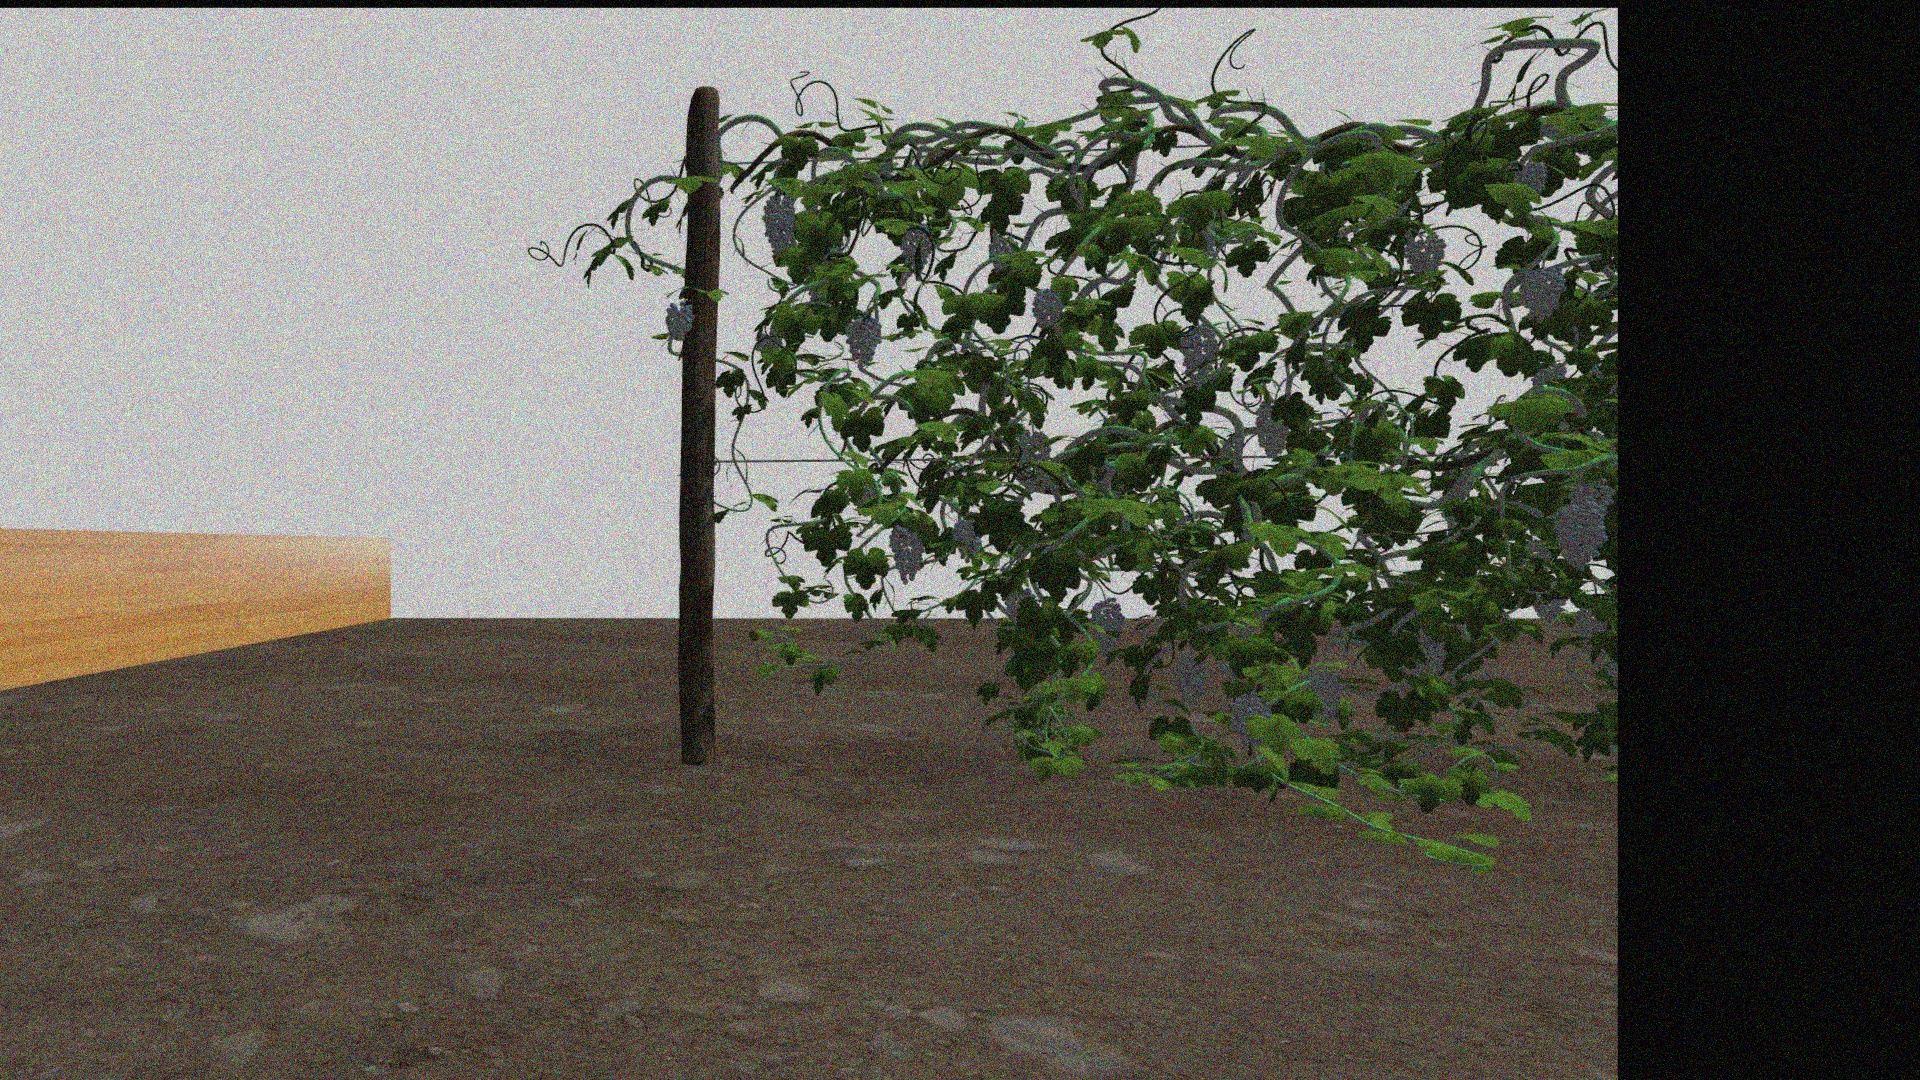grape: (1556, 501, 1604, 568), (1519, 262, 1564, 323), (1229, 691, 1270, 746), (1089, 595, 1126, 654), (1178, 324, 1217, 378), (886, 524, 922, 583), (1404, 227, 1447, 276), (761, 193, 796, 249), (845, 315, 884, 367), (1172, 653, 1211, 704), (1308, 667, 1344, 720), (1254, 404, 1288, 458), (1414, 626, 1447, 673), (899, 229, 931, 272), (663, 301, 696, 340), (1031, 287, 1062, 328), (952, 520, 982, 559), (986, 235, 1017, 268), (1518, 160, 1548, 193)
